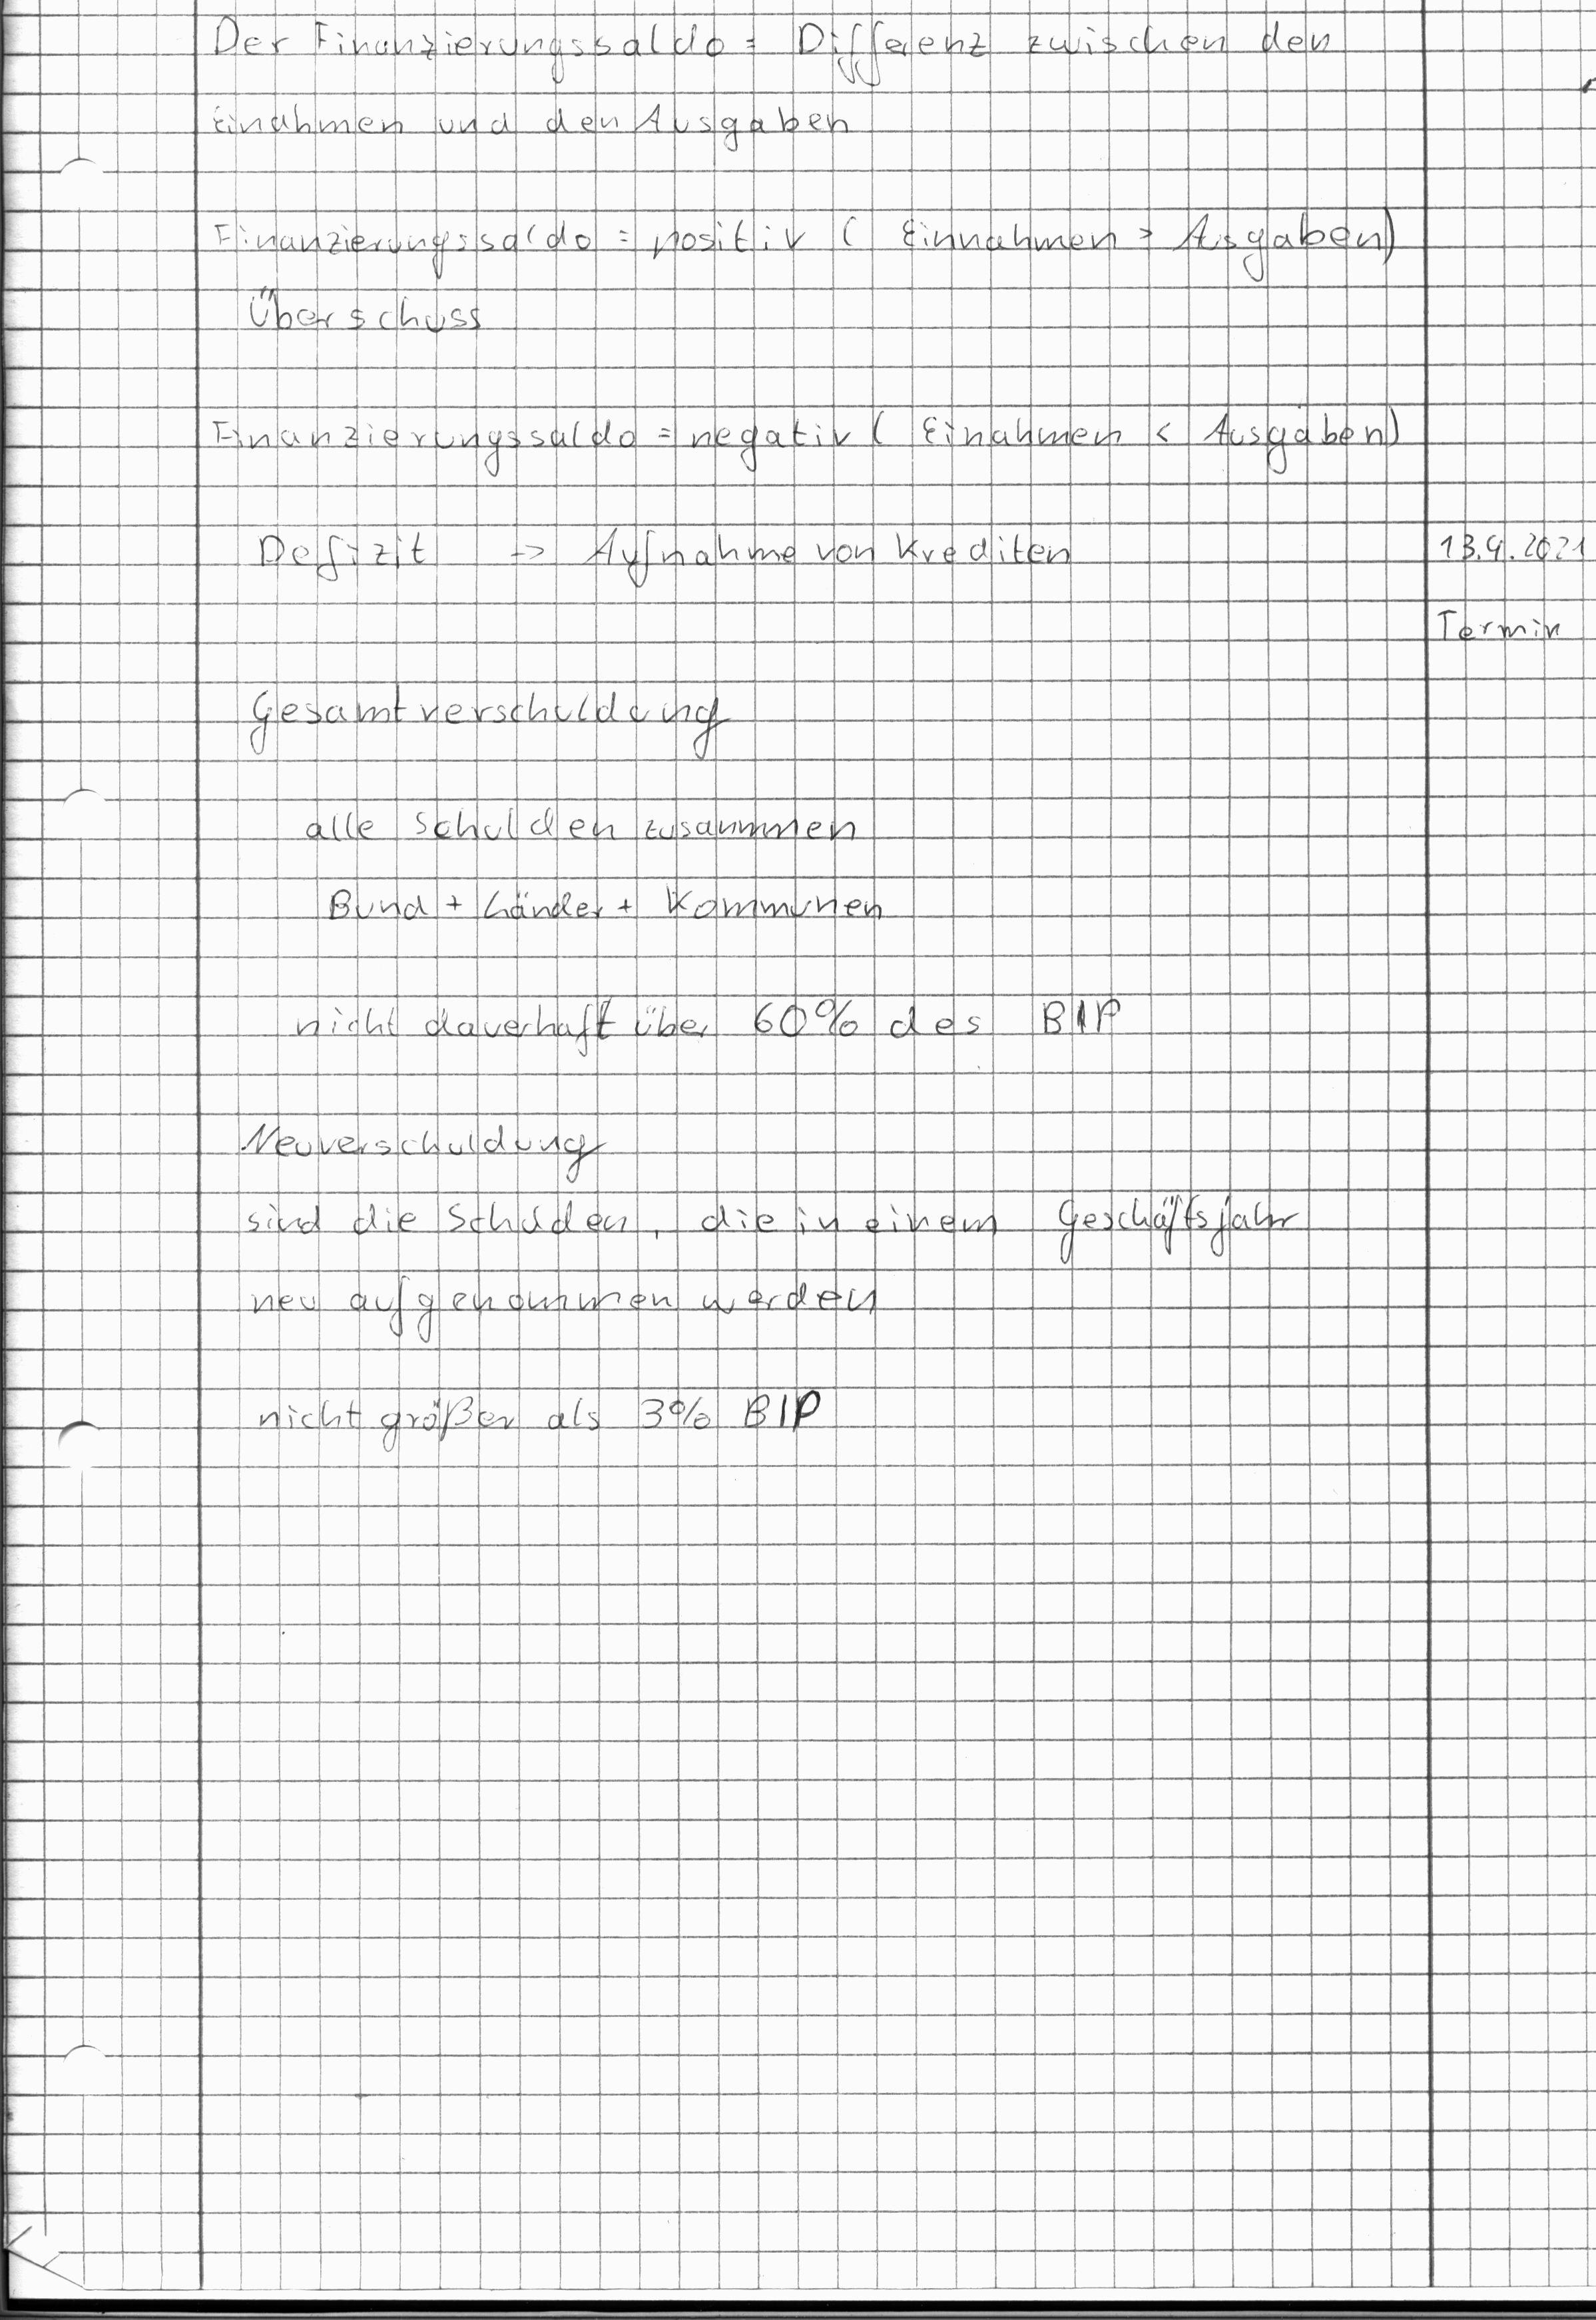word: (234, 1188, 1306, 1345), (206, 396, 1407, 489), (206, 3, 1335, 95), (206, 203, 1398, 289), (288, 789, 905, 942), (250, 504, 1085, 601), (283, 978, 1125, 1067), (243, 1366, 834, 1464), (238, 669, 742, 772), (203, 91, 868, 160), (229, 1105, 611, 1189), (240, 276, 491, 347)
